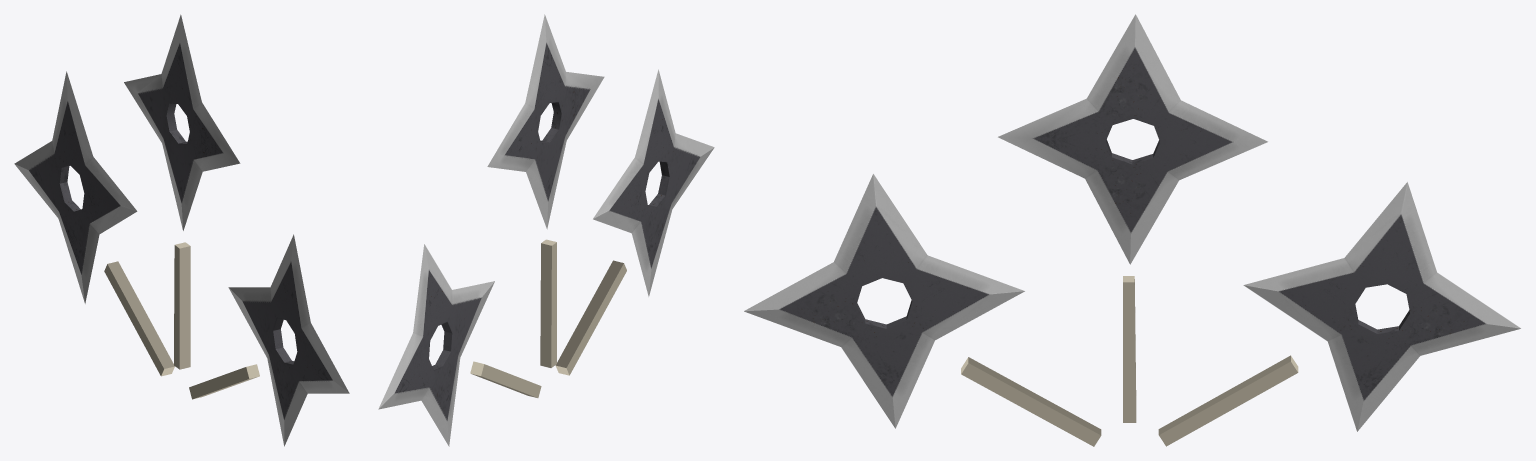
Rendered from SM_Shuriken_Multiple.fbx.
The picture shows the model from 3 angles, left to right: view 1: azimuth 30°, elevation 25°; view 2: azimuth 150°, elevation 25°; view 3: azimuth 270°, elevation 25°; orthographic projection. The views are drawn at different scales.
Visible parts, largest first — view 1: Shuriken_Multiple; view 2: Shuriken_Multiple; view 3: Shuriken_Multiple.
Part boxes in pixels (x1,y1,x2,y2): Shuriken_Multiple: (14, 14, 349, 446); Shuriken_Multiple: (378, 14, 714, 446); Shuriken_Multiple: (744, 14, 1520, 446).
Bounding box in the file's own units: 2.32 × 65.32 × 107.
